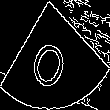O_NE: (31, 20, 79, 90)
